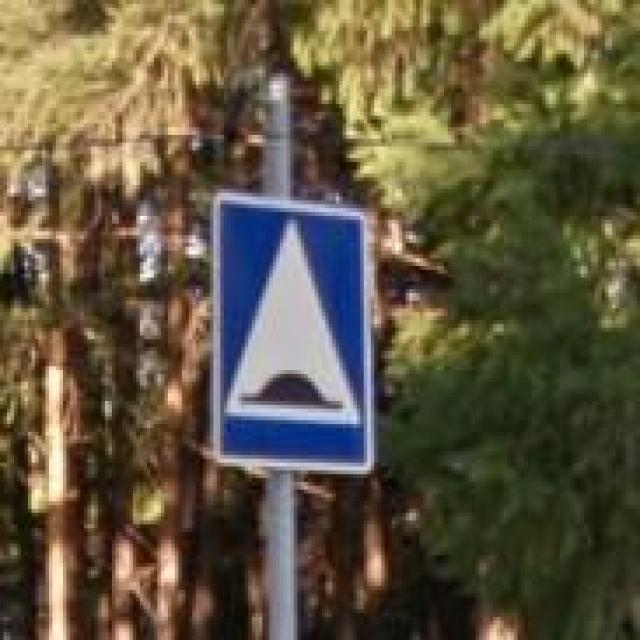traffic_sign: (210, 193, 374, 474)
